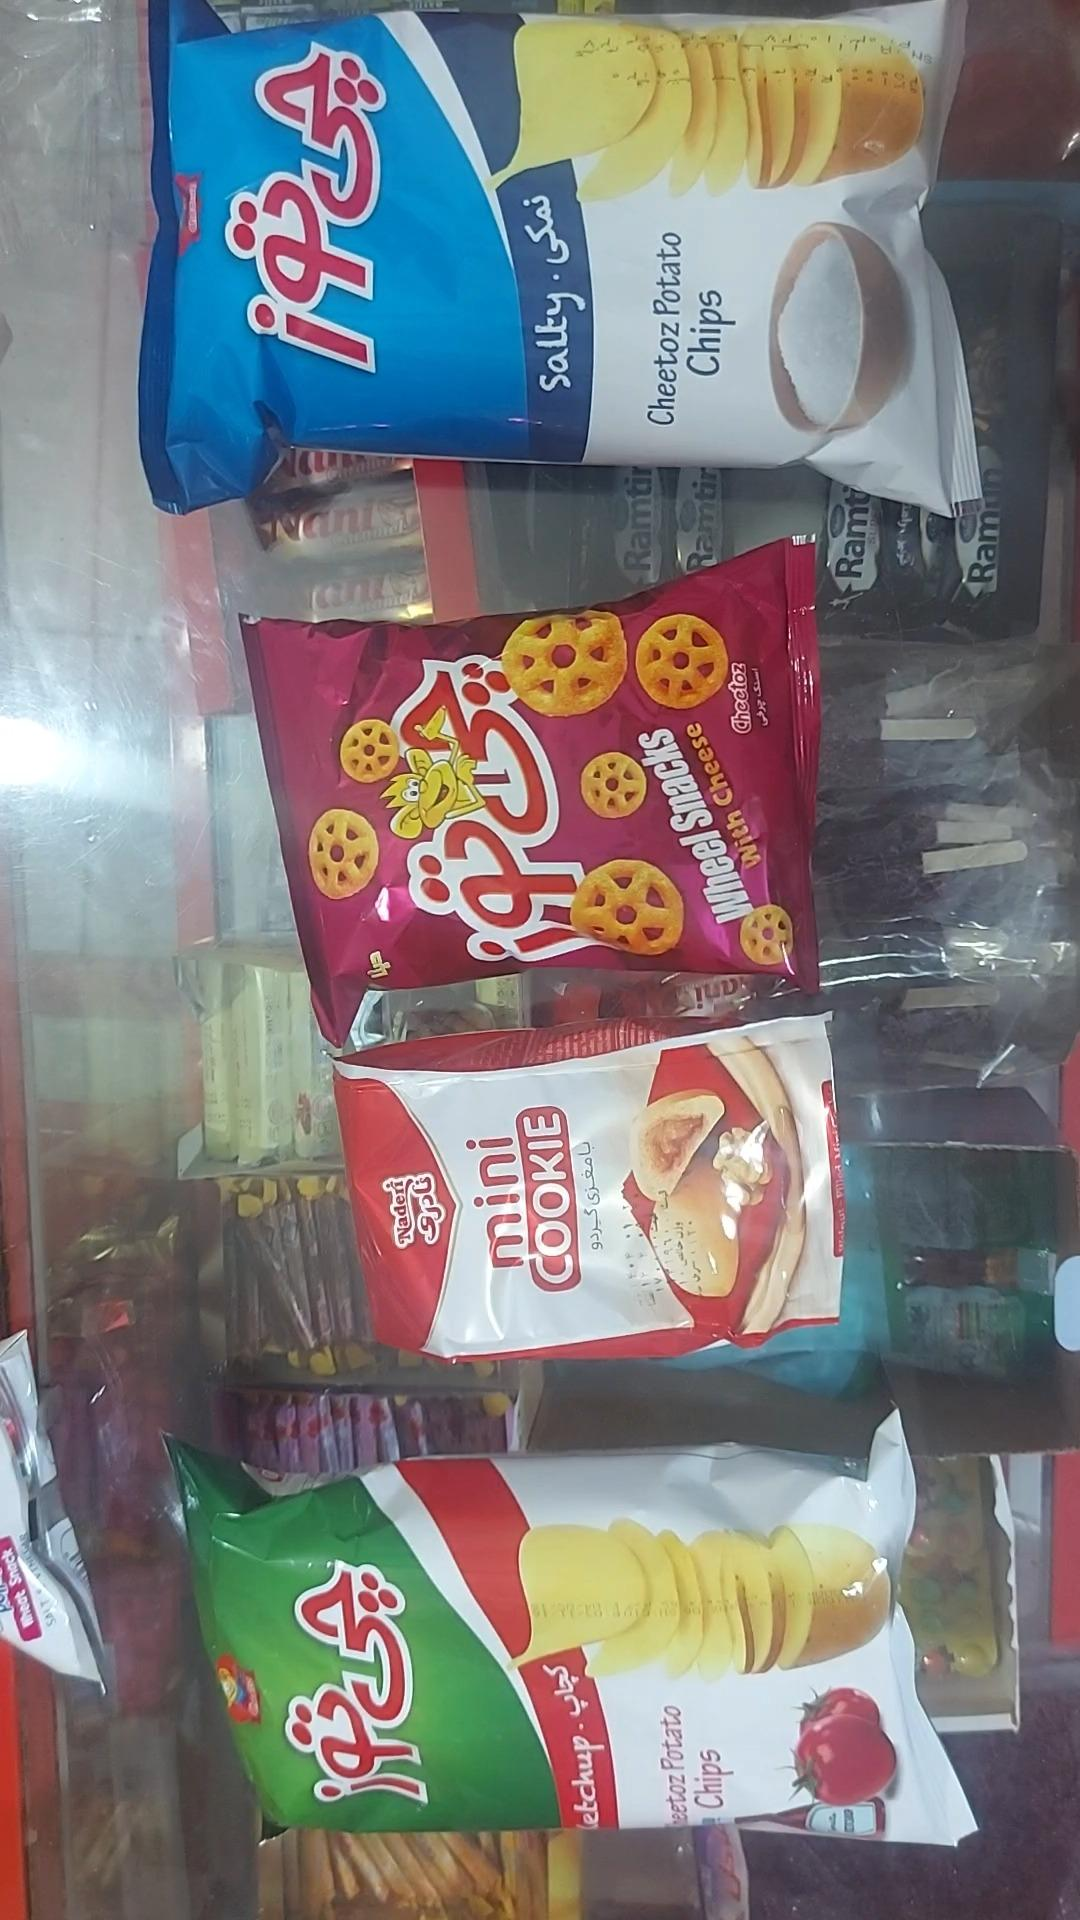Cheetoz ketchup chips: (164, 1414, 982, 1847)
Cheetoz salty chips: (137, 0, 982, 518)
Cheetoz wheelsnack: (239, 537, 822, 1048)
Naderi mini cookie: (332, 1015, 847, 1367)
